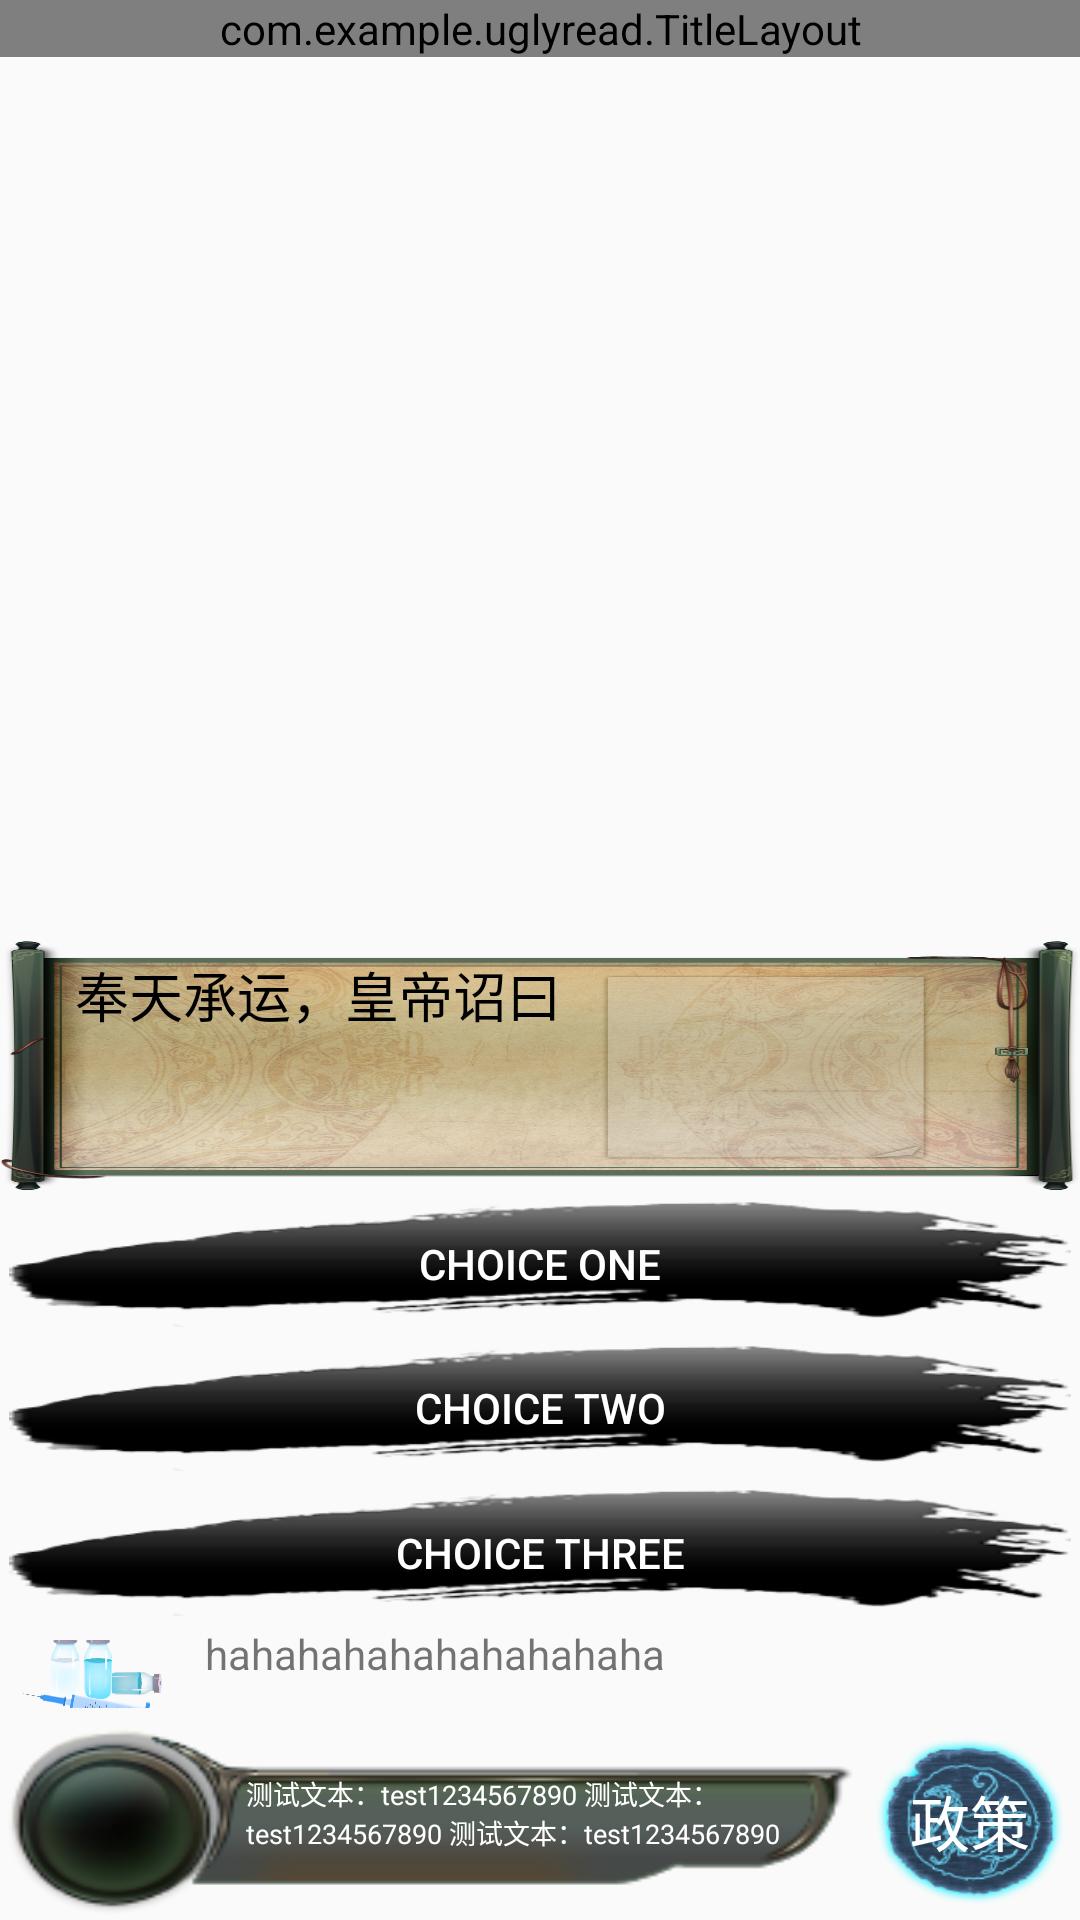

Locate icon controls on the screen. Image size 1080px×1920px, boxes as (x1, y1, x2, y2).
yimiao: (23, 1640, 162, 1708)
